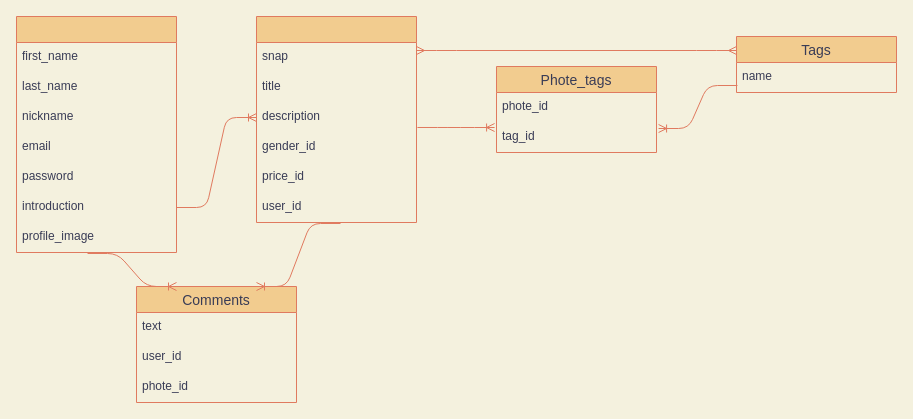
The diagram is 913 pixels wide and 419 high, and some of its shapes have lost their labels. Each missing label, with the box of its shape:
Photes: (256, 16, 416, 222)
Users: (16, 16, 176, 252)
